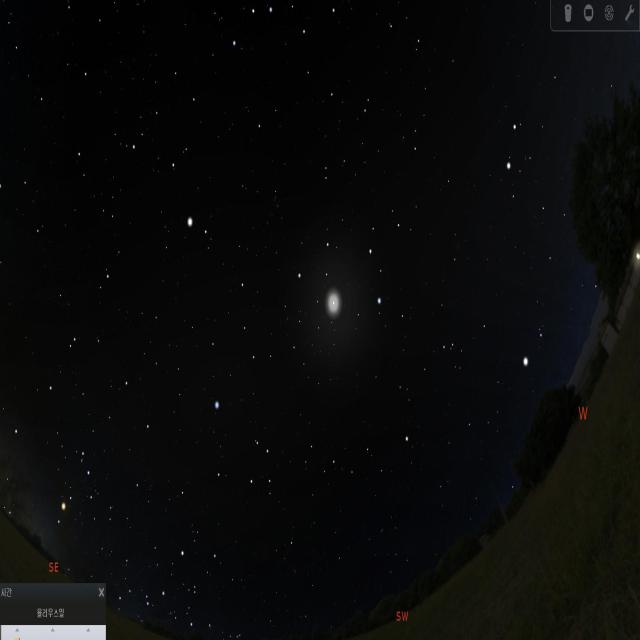bootes: (144, 58, 206, 245)
canis_minor: (515, 318, 551, 378)
gemini: (501, 121, 586, 211)
leo: (281, 206, 408, 324)
moon: (316, 268, 347, 336)
scorpius: (47, 442, 106, 548)
